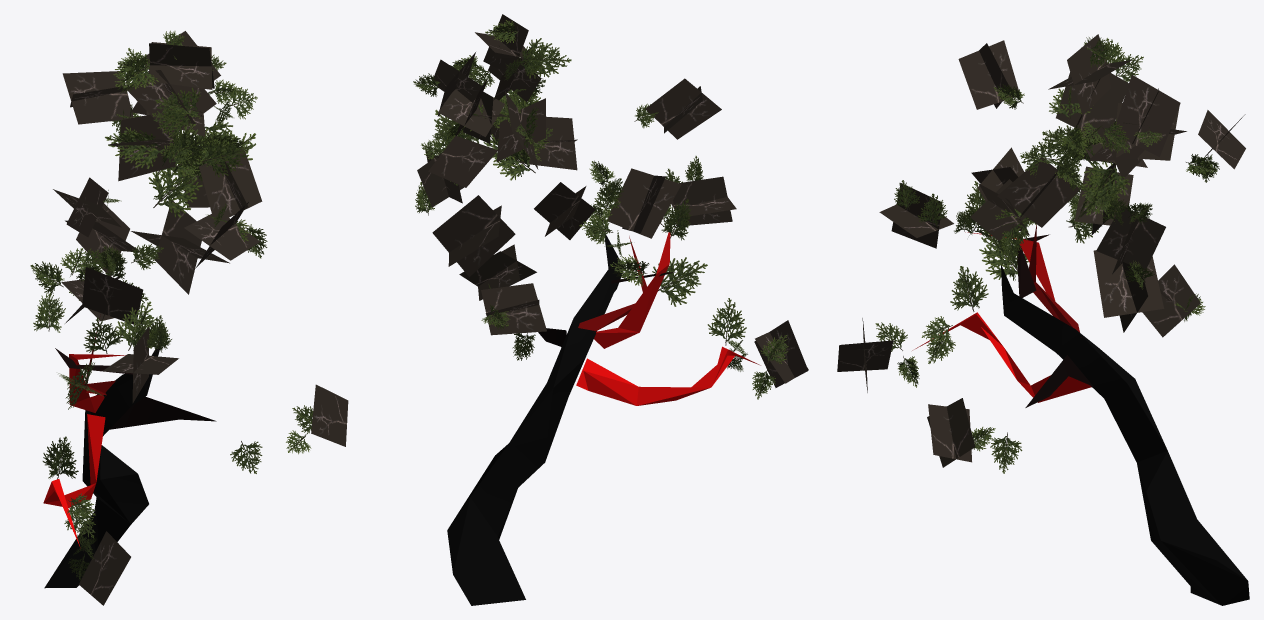
Rendered from cpine3 lod3.FBX.
3 views of the same model, side by side, from view 1: azimuth 30°, elevation 25°; view 2: azimuth 150°, elevation 25°; view 3: azimuth 270°, elevation 25° (orthographic). The views are drawn at different scales.
Visible parts, largest first — view 1: cpine3_LOD3; view 2: cpine3_LOD3; view 3: cpine3_LOD3.
Boxes of the visible parts, <box> form: cpine3_LOD3: <box>30,30,348,605</box>; cpine3_LOD3: <box>413,14,808,605</box>; cpine3_LOD3: <box>837,34,1249,605</box>.
Size of the model in its own units: 94949 by 159914 by 102564.
